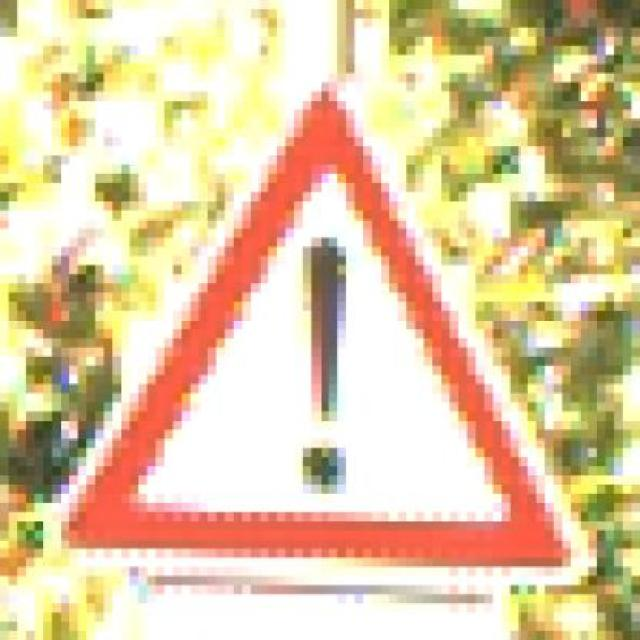Attention Please-: (61, 82, 605, 576)
